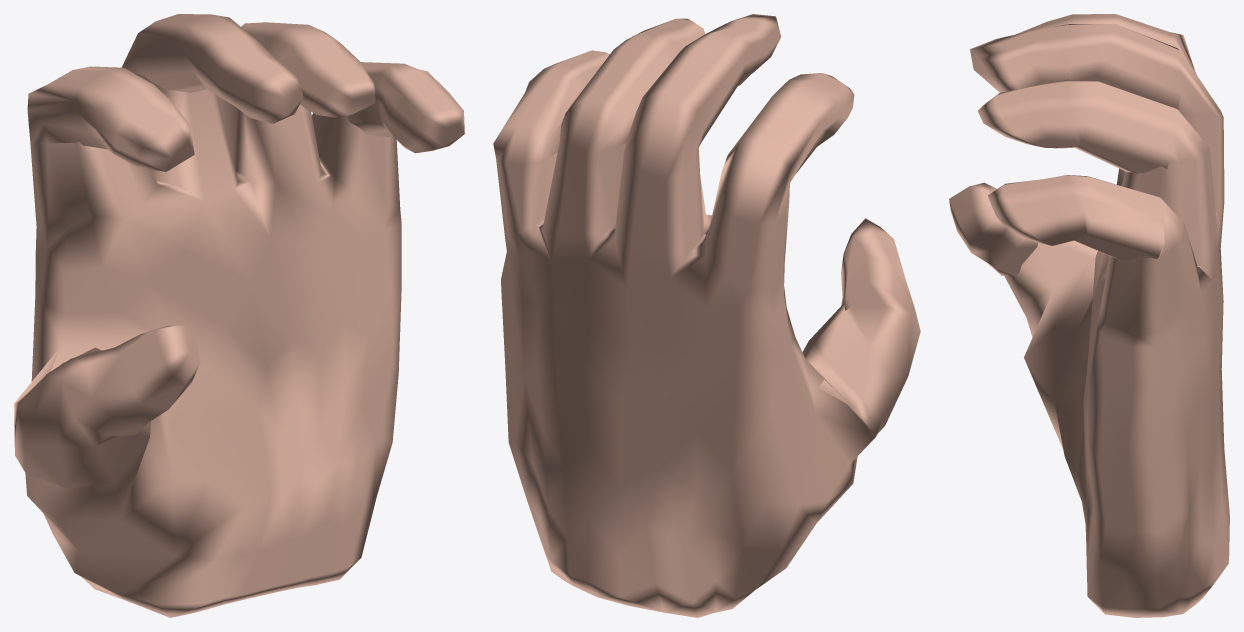
The model's file is CURVADOS.obj.
3 views of the same model, side by side, from view 1: azimuth 30°, elevation 25°; view 2: azimuth 150°, elevation 25°; view 3: azimuth 270°, elevation 25° (orthographic). The views are drawn at different scales.
Parts seen in each view (by area): view 1: mao_dir polySurface1; view 2: mao_dir polySurface1; view 3: mao_dir polySurface1.
Part boxes in pixels (box(x1,y1,x2,y2)): mao_dir polySurface1: box(14, 14, 464, 617); mao_dir polySurface1: box(493, 14, 920, 617); mao_dir polySurface1: box(949, 14, 1229, 617).
Size of the model in its own units: 140 by 196 by 93.97.
